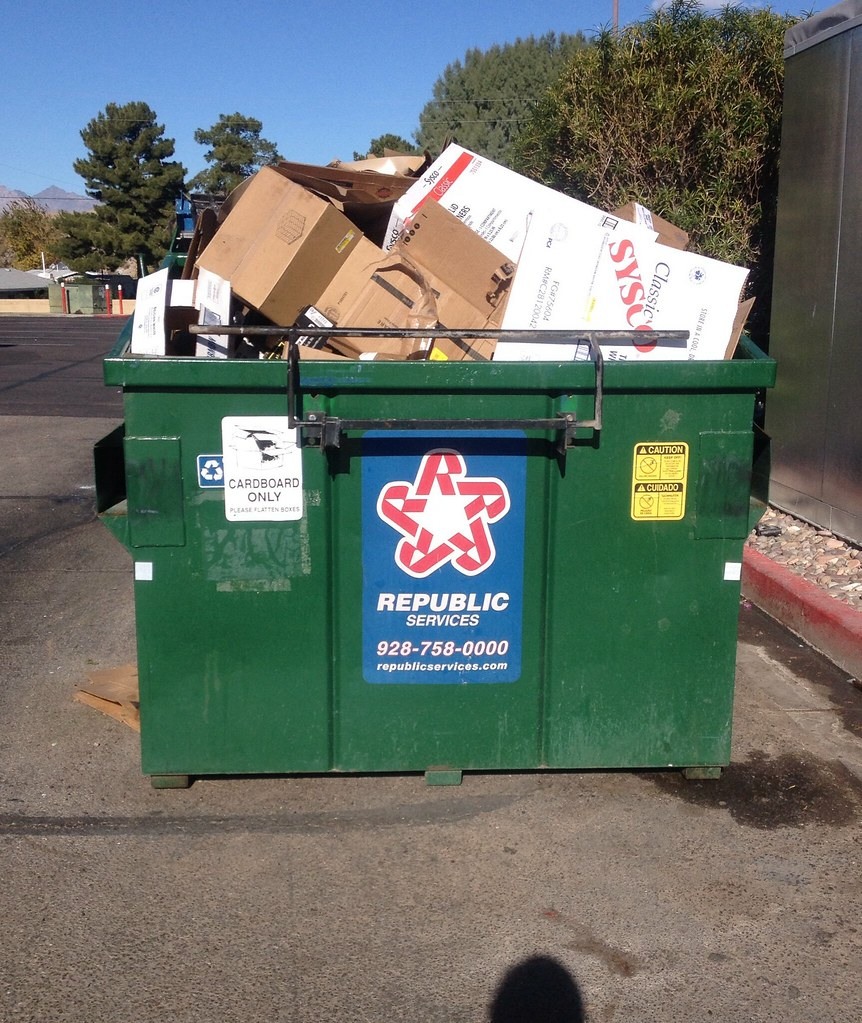Dumpster: (89, 265, 780, 792)
